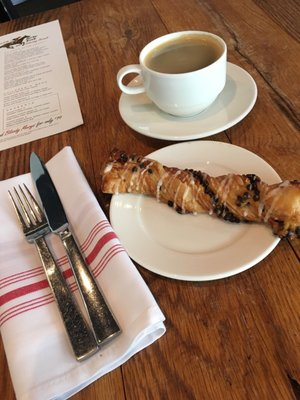sandwich: (28, 151, 119, 391)
